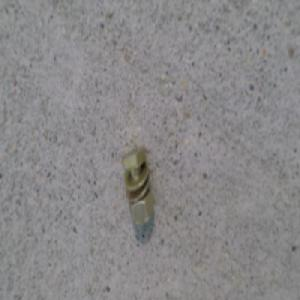BoltNutSet: (123, 145, 156, 223)
